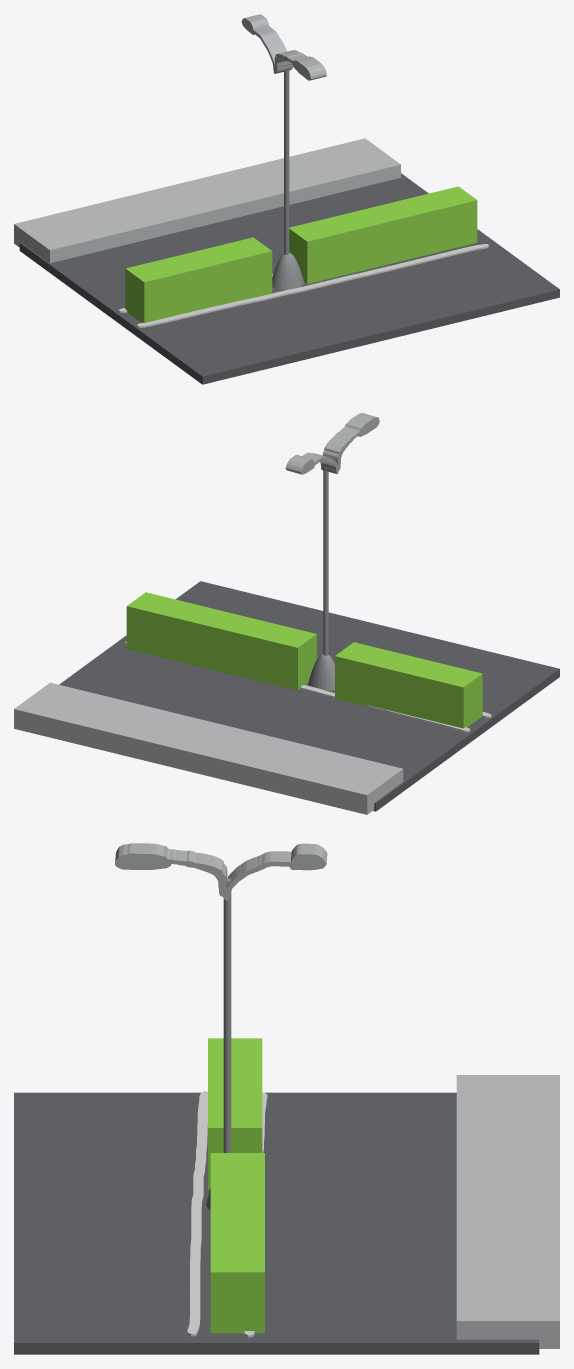
Rendered from Road.glb.
The picture shows the model from 3 angles, top to bottom: view 1: azimuth 30°, elevation 25°; view 2: azimuth 150°, elevation 25°; view 3: azimuth 270°, elevation 25°; orthographic projection. The views are drawn at different scales.
Visible parts, largest first — view 1: Mesh_Mesh_head_geo.001_lambert2SG.001; view 2: Mesh_Mesh_head_geo.001_lambert2SG.001; view 3: Mesh_Mesh_head_geo.001_lambert2SG.001.
Boxes of the visible parts, x1,y1,x2,y2 form: Mesh_Mesh_head_geo.001_lambert2SG.001: (14, 14, 559, 384); Mesh_Mesh_head_geo.001_lambert2SG.001: (14, 413, 559, 814); Mesh_Mesh_head_geo.001_lambert2SG.001: (14, 843, 559, 1354).
Size of the model in its own units: 229 by 156 by 211.
